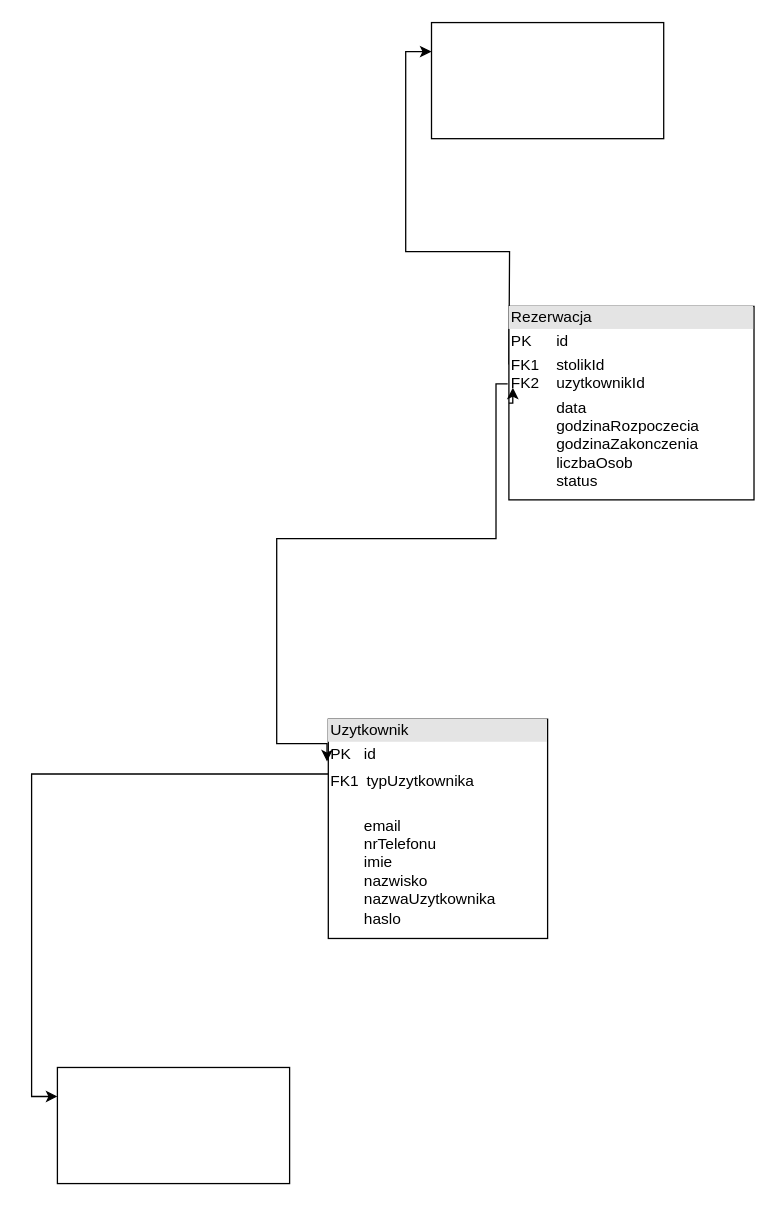
This 777x1206 diagram has some shape labels left out. Each missing label, with the centre of its shape:
"Stolik PK id nazwa liczbaMiejsc status" belongs at point (547, 80).
"TypUzytkownika PK id typUzytkownika" belongs at point (173, 1125).
